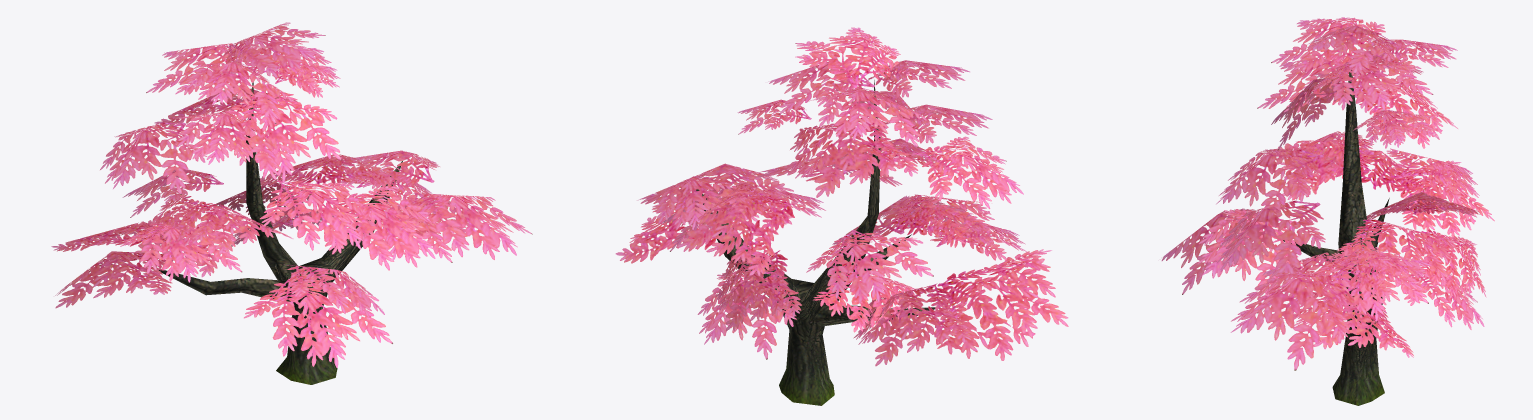
File: c5_tree_3.FBX
3 views of the same model, side by side, from view 1: azimuth 30°, elevation 25°; view 2: azimuth 150°, elevation 25°; view 3: azimuth 270°, elevation 25° (orthographic). The views are drawn at different scales.
Parts seen in each view (by area): view 1: c5_tree_3; view 2: c5_tree_3; view 3: c5_tree_3.
Part boxes in pixels (box(x1,y1,x2,y2)): c5_tree_3: box(51, 22, 532, 384); c5_tree_3: box(615, 27, 1068, 405); c5_tree_3: box(1161, 17, 1494, 405).
Size of the model in its own units: 434 by 295 by 312.
